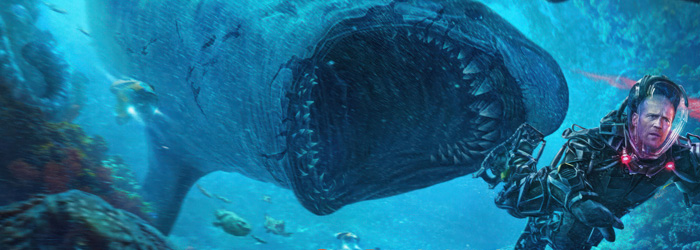Shark: (86, 0, 568, 231)
